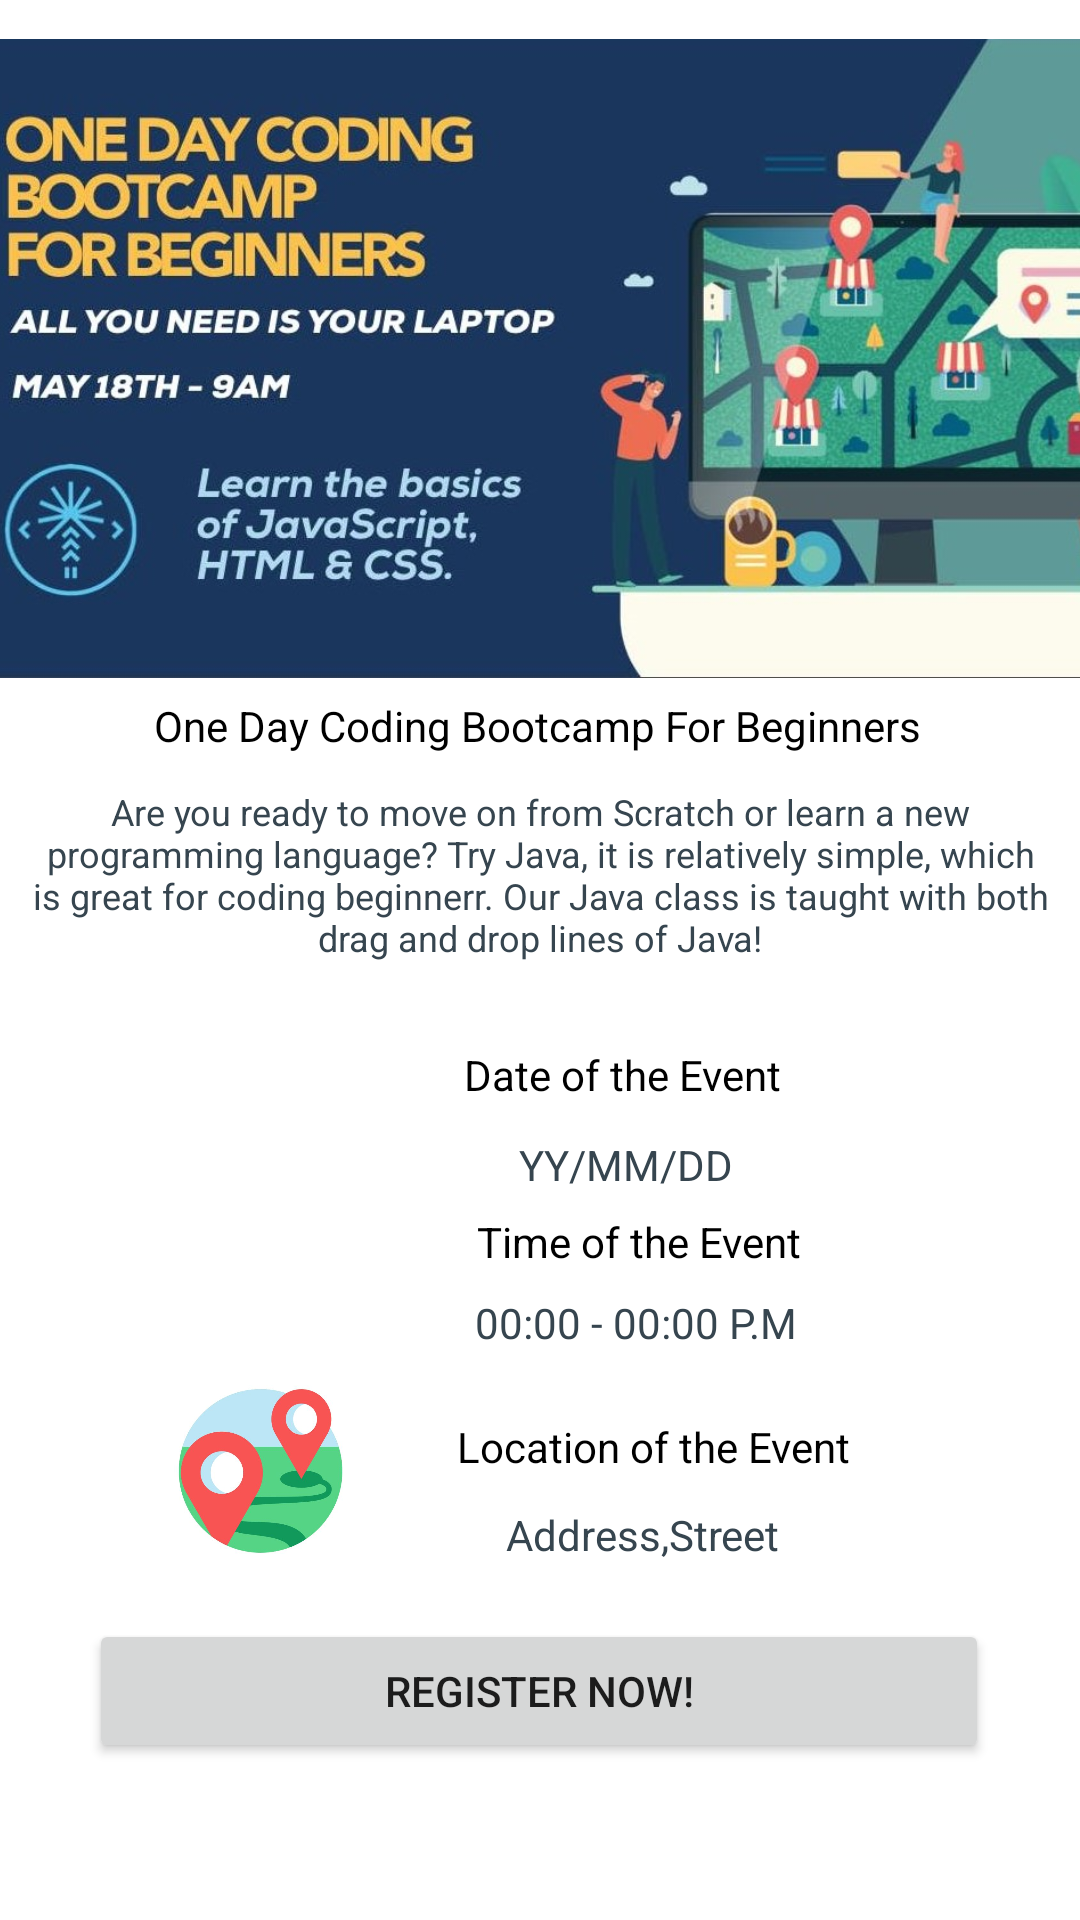

Icons on this 1080w x 1920h Android screen, each with the point to tap as point (x, y):
loc: point (260, 1471)
